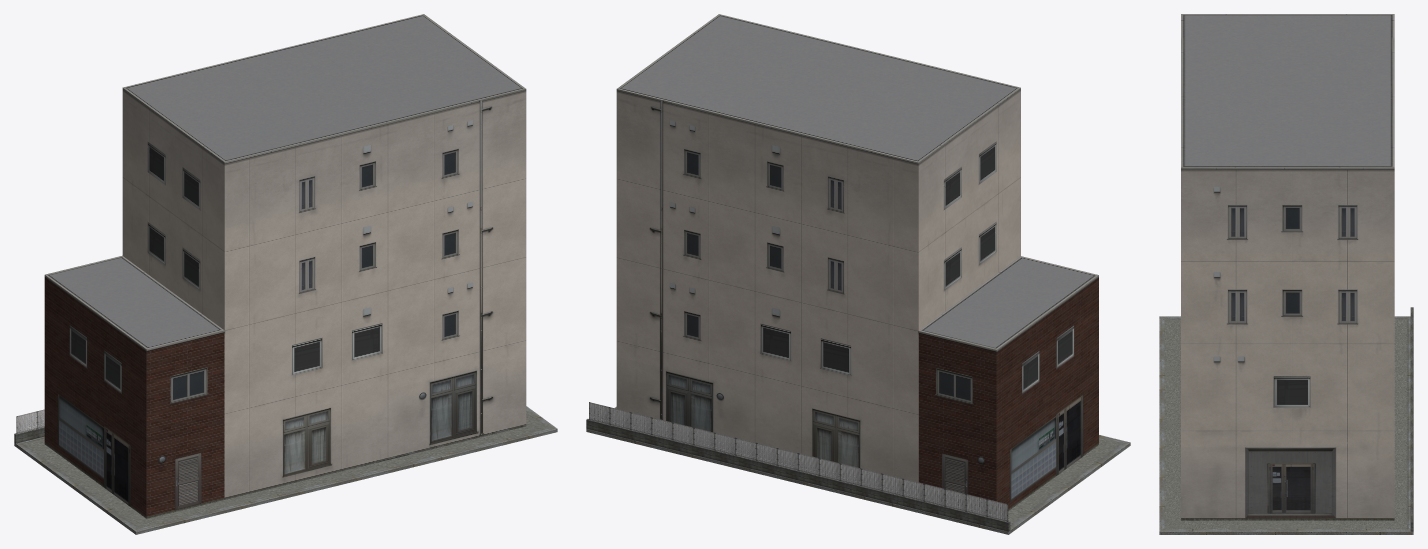
File: Apartment_beige_tile.fbx
3 views of the same model, side by side, from view 1: azimuth 30°, elevation 25°; view 2: azimuth 150°, elevation 25°; view 3: azimuth 270°, elevation 25° (orthographic). The views are drawn at different scales.
Visible parts, largest first — view 1: 100_Apartment_beige_tile, 000_Site_Apartment, 220_Fence_20m_Apartment_beige_tile; view 2: 100_Apartment_beige_tile, 220_Fence_20m_Apartment_beige_tile, 000_Site_Apartment; view 3: 100_Apartment_beige_tile, 000_Site_Apartment, 220_Fence_20m_Apartment_beige_tile.
Boxes of the visible parts, x1,y1,x2,y2 form: 100_Apartment_beige_tile: (44,14,526,518); 000_Site_Apartment: (14,406,557,534); 220_Fence_20m_Apartment_beige_tile: (14,409,44,443); 100_Apartment_beige_tile: (616,14,1098,510); 220_Fence_20m_Apartment_beige_tile: (586,402,1010,531); 000_Site_Apartment: (586,406,1130,534); 100_Apartment_beige_tile: (1181,14,1394,520); 000_Site_Apartment: (1159,316,1413,534); 220_Fence_20m_Apartment_beige_tile: (1410,307,1413,531).
Bounding box in the file's own units: 20 × 15.45 × 10.
